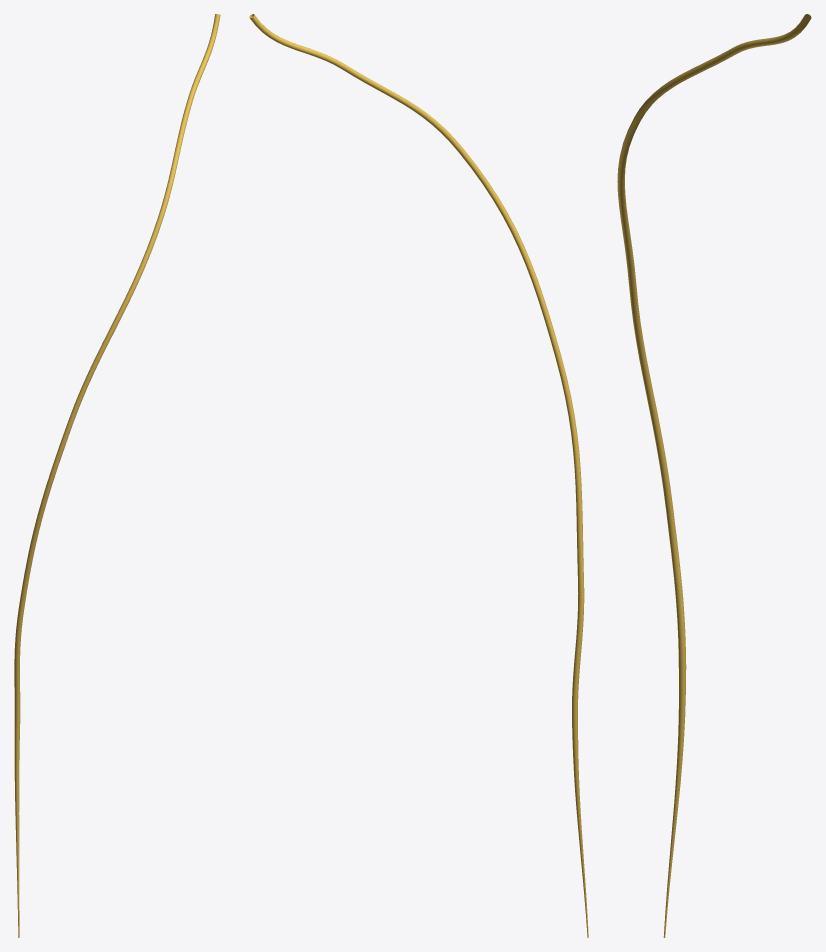
File: Lateral_antebrachial_cutaneous_nerve_right.glb
The picture shows the model from 3 angles, left to right: view 1: azimuth 30°, elevation 25°; view 2: azimuth 150°, elevation 25°; view 3: azimuth 270°, elevation 25°; orthographic projection. The views are drawn at different scales.
Visible parts, largest first — view 1: Lateral_antebrachial_cutaneous_nerve.r_BezierCurve.519; view 2: Lateral_antebrachial_cutaneous_nerve.r_BezierCurve.519; view 3: Lateral_antebrachial_cutaneous_nerve.r_BezierCurve.519.
Boxes of the visible parts, left/top/right/bottom form: Lateral_antebrachial_cutaneous_nerve.r_BezierCurve.519: left=14, top=14, right=220, bottom=937; Lateral_antebrachial_cutaneous_nerve.r_BezierCurve.519: left=249, top=14, right=588, bottom=937; Lateral_antebrachial_cutaneous_nerve.r_BezierCurve.519: left=617, top=14, right=811, bottom=937.
Size of the model in its own units: 0.0528 by 0.162 by 0.0262.
